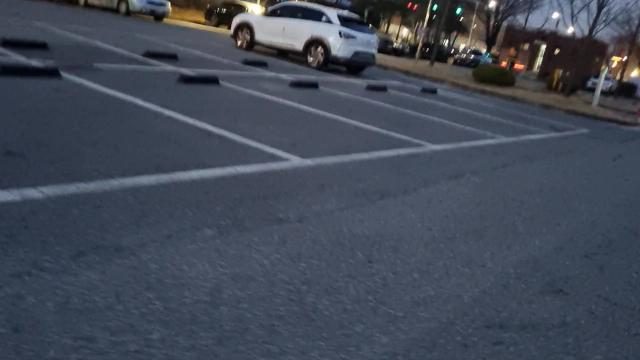empty: (46, 60, 428, 168), (190, 67, 506, 160), (281, 70, 554, 142), (374, 79, 592, 139)
